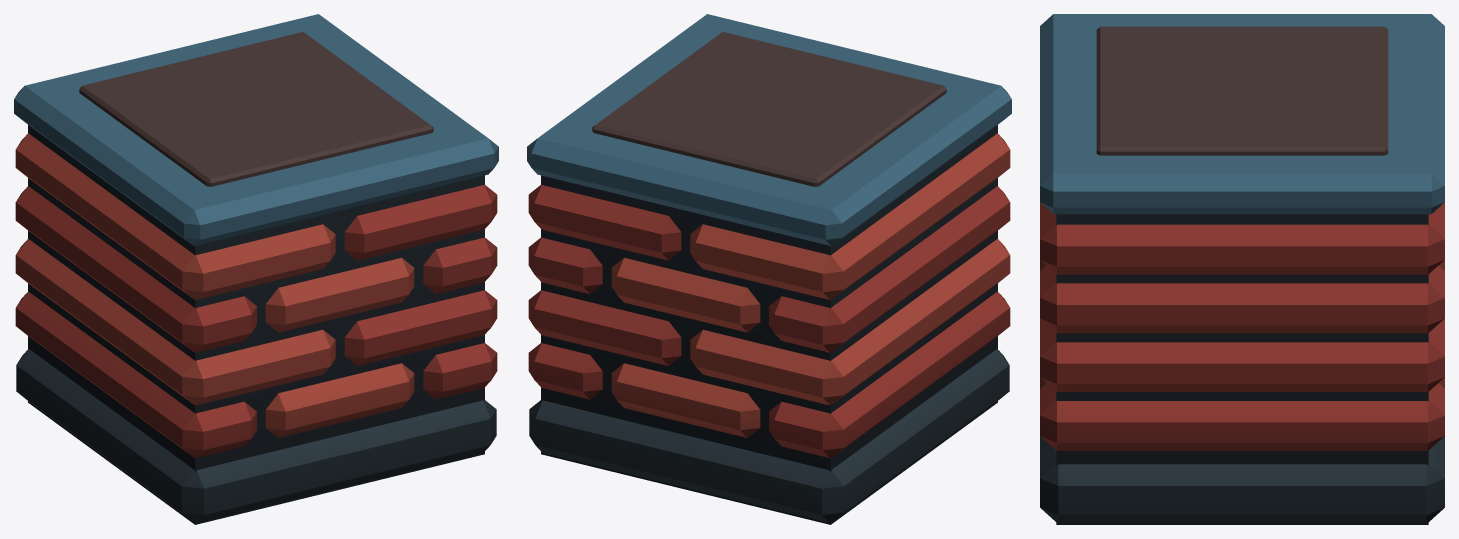
File: coral-brick-wall.glb
The picture shows the model from 3 angles, left to right: view 1: azimuth 30°, elevation 25°; view 2: azimuth 150°, elevation 25°; view 3: azimuth 270°, elevation 25°; orthographic projection. The views are drawn at different scales.
Visible parts, largest first — view 1: mesh_coral_brick_wall; view 2: mesh_coral_brick_wall; view 3: mesh_coral_brick_wall.
Part boxes in pixels (x1,y1,x2,y2): mesh_coral_brick_wall: (14, 14, 498, 524); mesh_coral_brick_wall: (527, 14, 1011, 524); mesh_coral_brick_wall: (1040, 14, 1444, 524).
Size of the model in its own units: 1 by 0.98 by 1.
